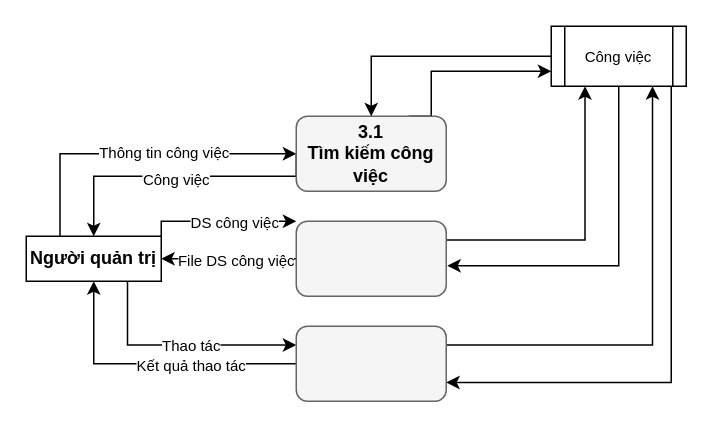
This 725x428 diagram has some shape labels left out. The centre of each missing label's shape, as x and y in pixels:
"3.1 In, xuất file danh sách công việc" belongs at (370,258).
"3.3 Thêm, xóa, sửa công việc" belongs at (370,363).
